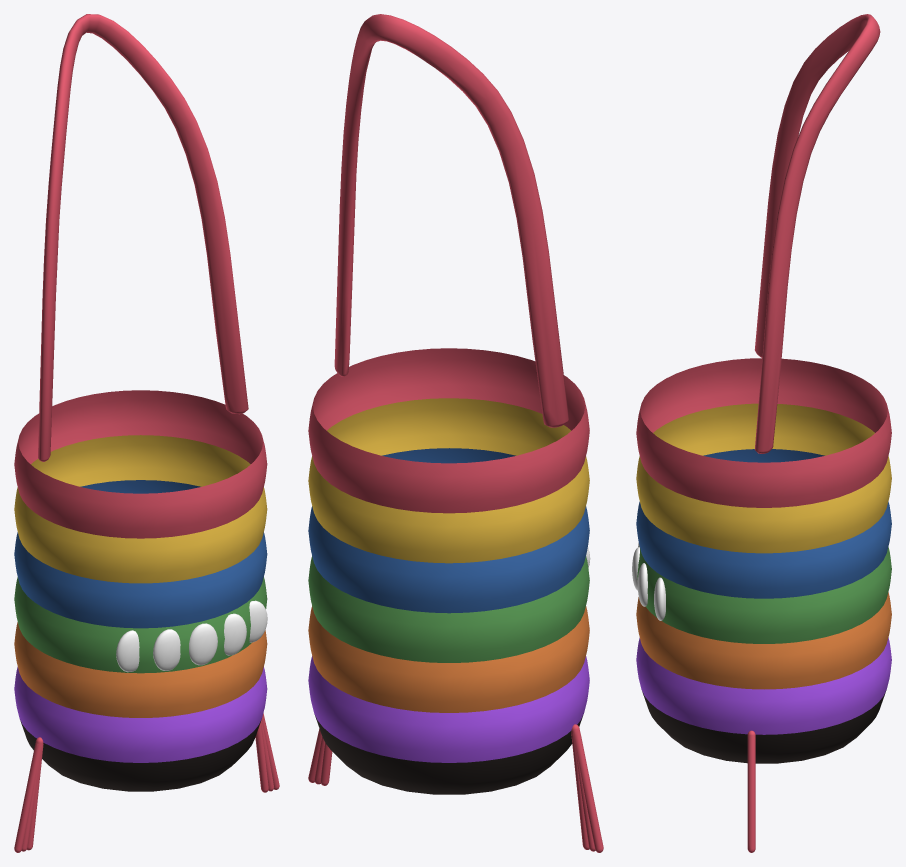
Rendered from deco_mochila_wayuu.glb.
3 views of the same model, side by side, from view 1: azimuth 30°, elevation 25°; view 2: azimuth 150°, elevation 25°; view 3: azimuth 270°, elevation 25° (orthographic). The views are drawn at different scales.
Parts seen in each view (by area): view 1: franja mochila 0.001, franja mochila 1.001, gasa.001, franja mochila 2.001, franja mochila 5.001, franja mochila 4.001, franja mochila 3.001, fondo mochila.001, rombo 2.001, rombo 1.001, borla mochila -12.001, rombo 0.001 (+3 smaller); view 2: franja mochila 0.001, franja mochila 1.001, gasa.001, franja mochila 2.001, franja mochila 4.001, franja mochila 5.001, franja mochila 3.001, fondo mochila.001, borla mochila -12.001, borla mochila -10.001; view 3: franja mochila 0.001, franja mochila 1.001, gasa.001, franja mochila 2.001, franja mochila 5.001, franja mochila 4.001, franja mochila 3.001, fondo mochila.001, borla mochila 12.001.
Boxes of the visible parts, x1,y1,x2,y2 form: franja mochila 0.001: (14, 390, 267, 538); franja mochila 1.001: (14, 435, 267, 583); gasa.001: (38, 14, 248, 461); franja mochila 2.001: (14, 480, 267, 628); franja mochila 5.001: (14, 667, 267, 762); franja mochila 4.001: (14, 622, 267, 717); franja mochila 3.001: (14, 577, 267, 673); fondo mochila.001: (20, 720, 261, 791); rombo 2.001: (189, 623, 217, 665); rombo 1.001: (153, 629, 180, 670); borla mochila -12.001: (14, 737, 42, 852); rombo 0.001: (116, 630, 139, 672); franja mochila 0.001: (308, 348, 589, 513); franja mochila 1.001: (308, 398, 589, 563); gasa.001: (334, 14, 568, 427); franja mochila 2.001: (308, 448, 589, 613); franja mochila 4.001: (308, 606, 589, 712); franja mochila 5.001: (308, 656, 589, 762); franja mochila 3.001: (308, 556, 589, 662); fondo mochila.001: (314, 714, 583, 794); borla mochila -12.001: (571, 725, 603, 852); borla mochila -10.001: (571, 724, 589, 849); franja mochila 0.001: (636, 358, 891, 507); franja mochila 1.001: (636, 403, 891, 553); gasa.001: (754, 14, 880, 453); franja mochila 2.001: (636, 449, 891, 598); franja mochila 5.001: (636, 637, 891, 734); franja mochila 4.001: (636, 592, 891, 689); franja mochila 3.001: (637, 547, 891, 643); fondo mochila.001: (642, 690, 886, 763); borla mochila 12.001: (747, 731, 755, 852).
Bounding box in the file's own units: 0.2466 × 0.6808 × 0.2077.
